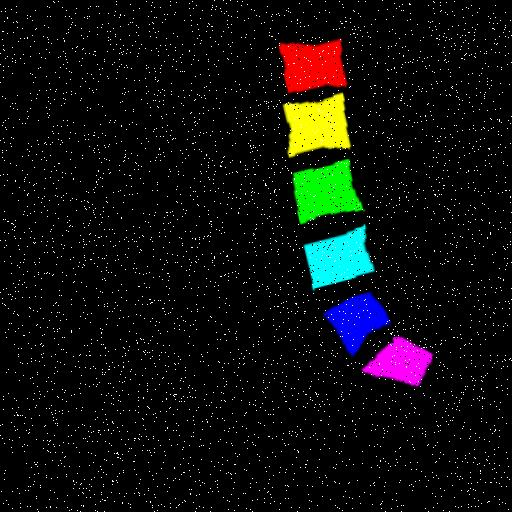L1: (280, 47, 346, 98)
L2: (281, 100, 348, 161)
L3: (289, 165, 358, 229)
L4: (298, 231, 368, 294)
L5: (319, 300, 383, 359)
S1: (356, 345, 426, 393)
